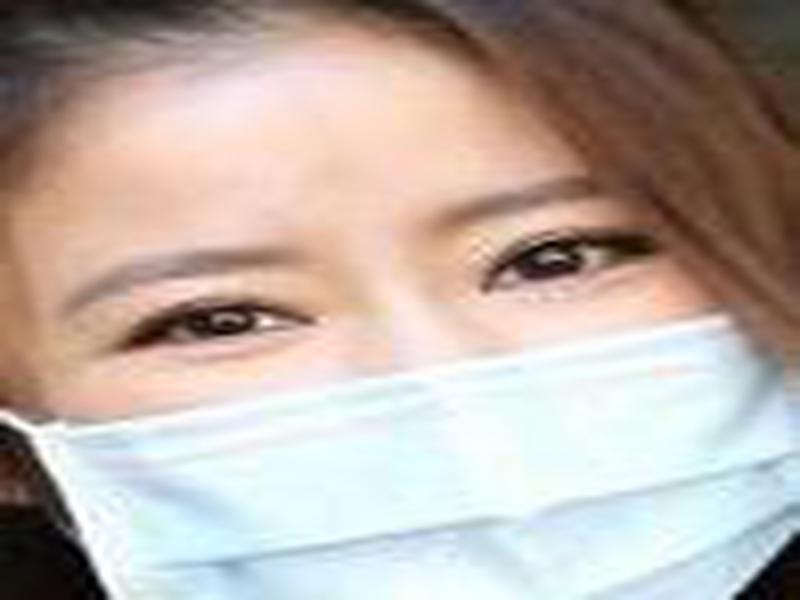with_mask: (1, 10, 795, 600)
